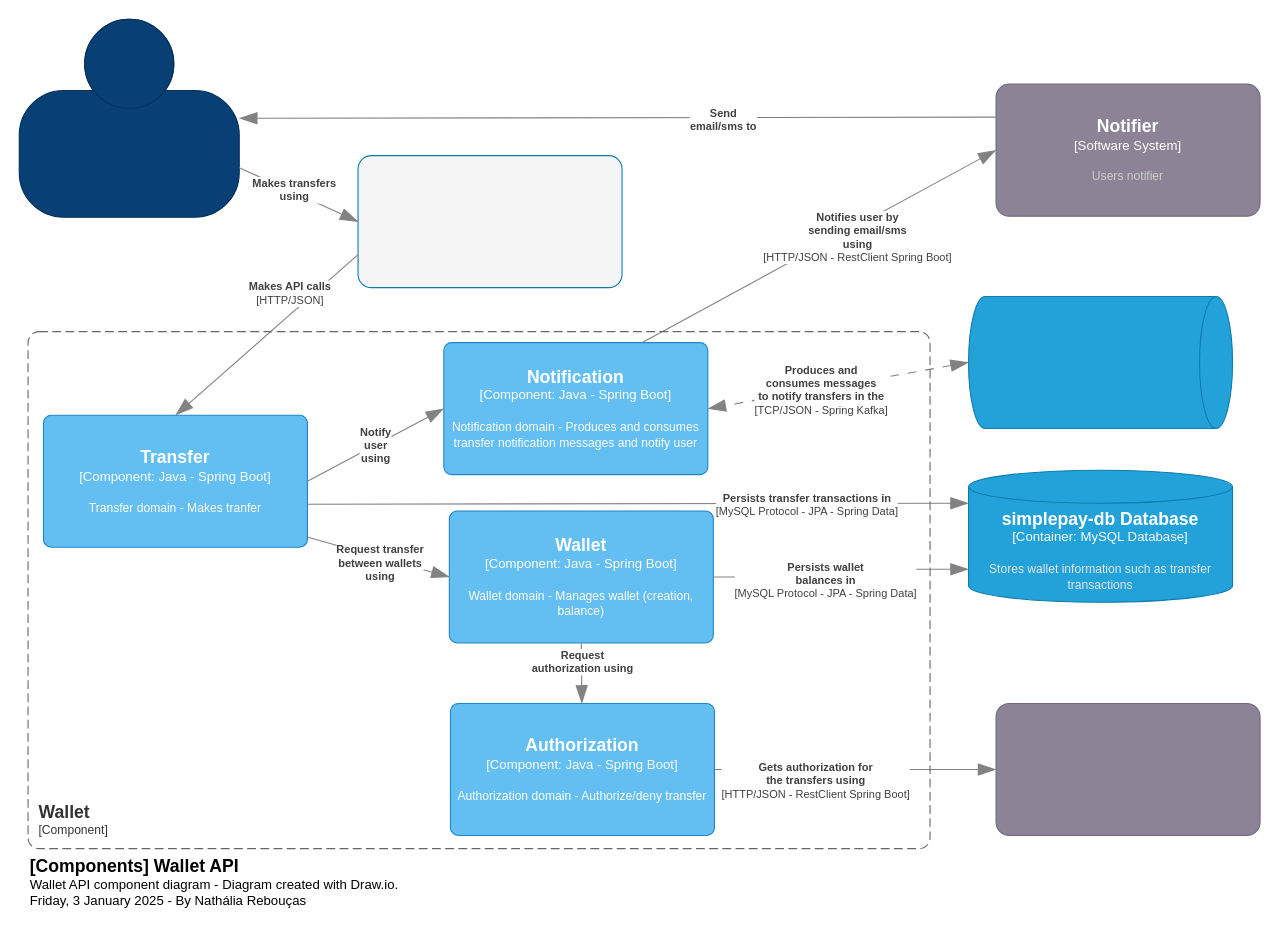
The diagram is 1279 pixels wide and 928 high, and some of its shapes have lost their labels. Here are the shapes that lost their labels. From the top down, the box of each, then its label:
(18, 18, 239, 217): User [Person] Common user
(357, 155, 622, 288): Wallet App [Container: Flutter] Digital Wallet Mobile App - User Interface
(967, 295, 1233, 428): transfer-notification Topic [Container: Apache Kafka] Reliable message delivery
(995, 702, 1260, 835): Authorizer [Software System] Transfers Authorizer
